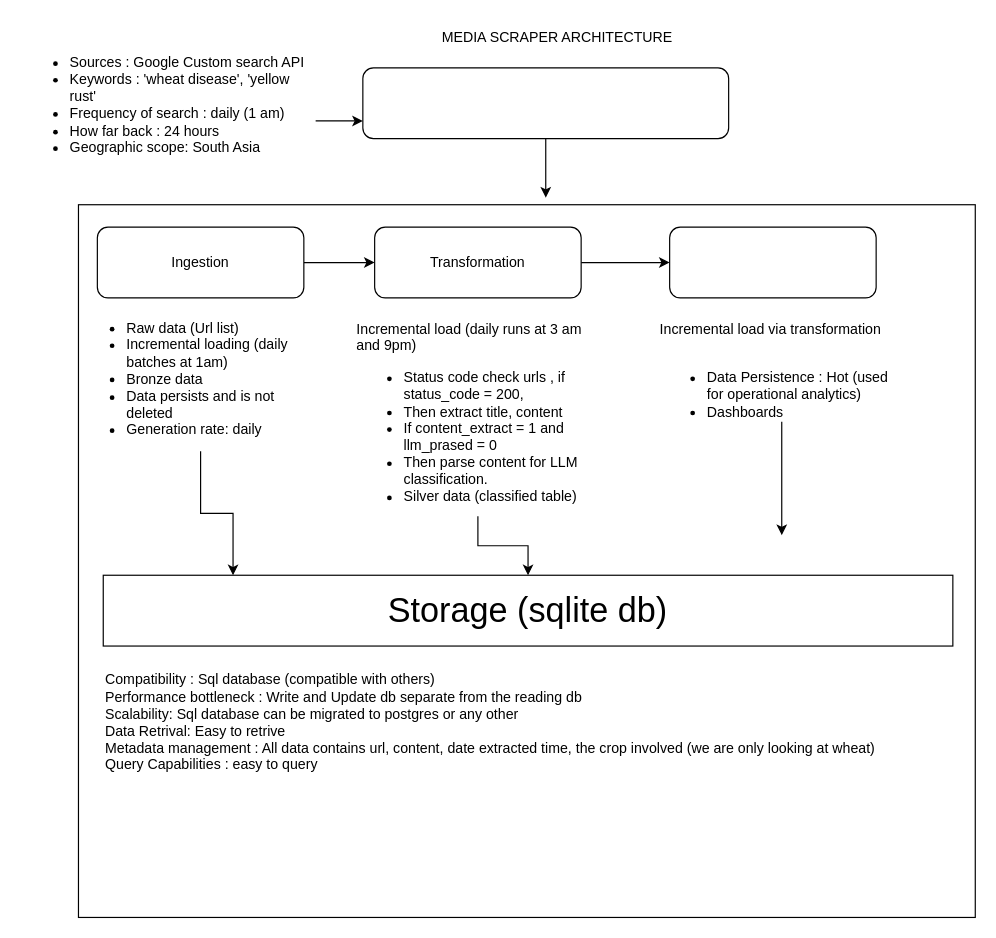
Some shapes in this 996 by 938 pixel diagram are drawn without their labels. The centre of each missing label's shape, as x and y in pixels:
"Data generation (source)" goes at [545,103].
"Serving" goes at [772,262].
